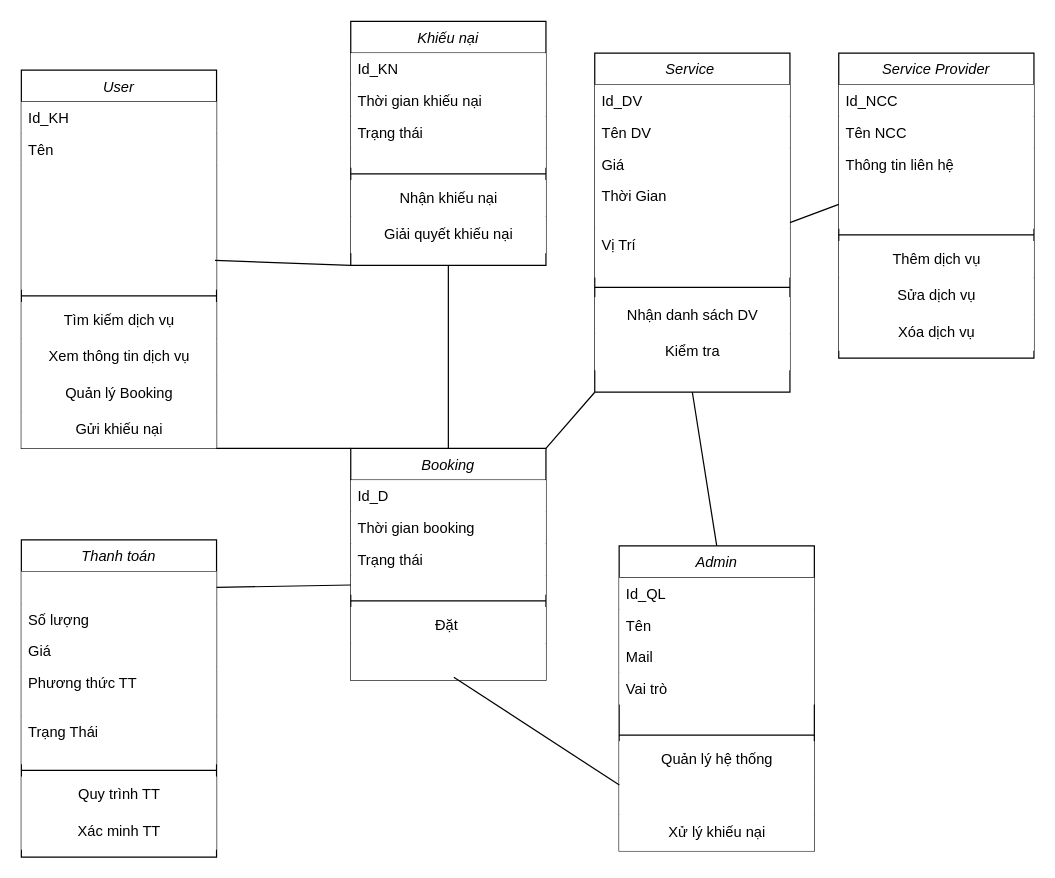
The diagram is 1055 pixels wide and 878 high, and some of its shapes have lost their labels. The centre of each missing label's shape, as x and y in pixels:
"Hủy" belongs at [447,661].
"Id_TT" belongs at [118,587].
"Kiểu Dịch Vụ" belongs at [935,203].
"Mail SDT Địa chỉ" belongs at [118,227].
"Quản lý dịch vụ" belongs at [716,795].
